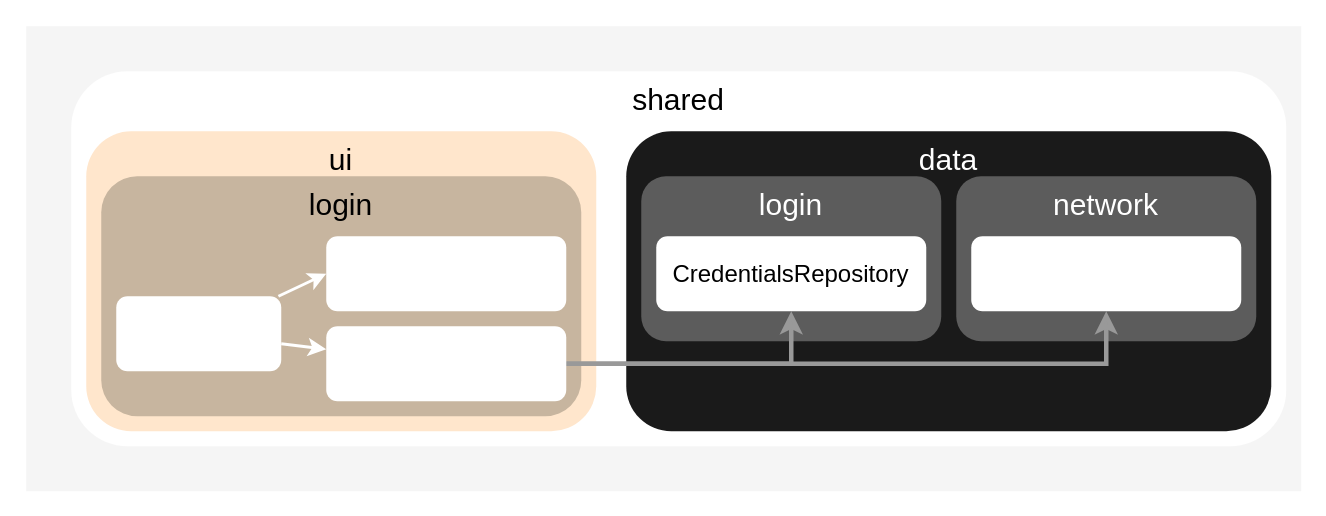
The diagram is 1326 pixels wide and 516 high, and some of its shapes have lost their labels. The shapes that lost their labels are listed below. From the top down, each one's box as (x1, y1, x2, y2) in pixels, then its label:
(326, 236, 566, 310): LoginScreenState
(970, 236, 1240, 310): NetworkHandler
(116, 296, 280, 370): LoginScreen
(326, 326, 566, 400): LoginViewModel
